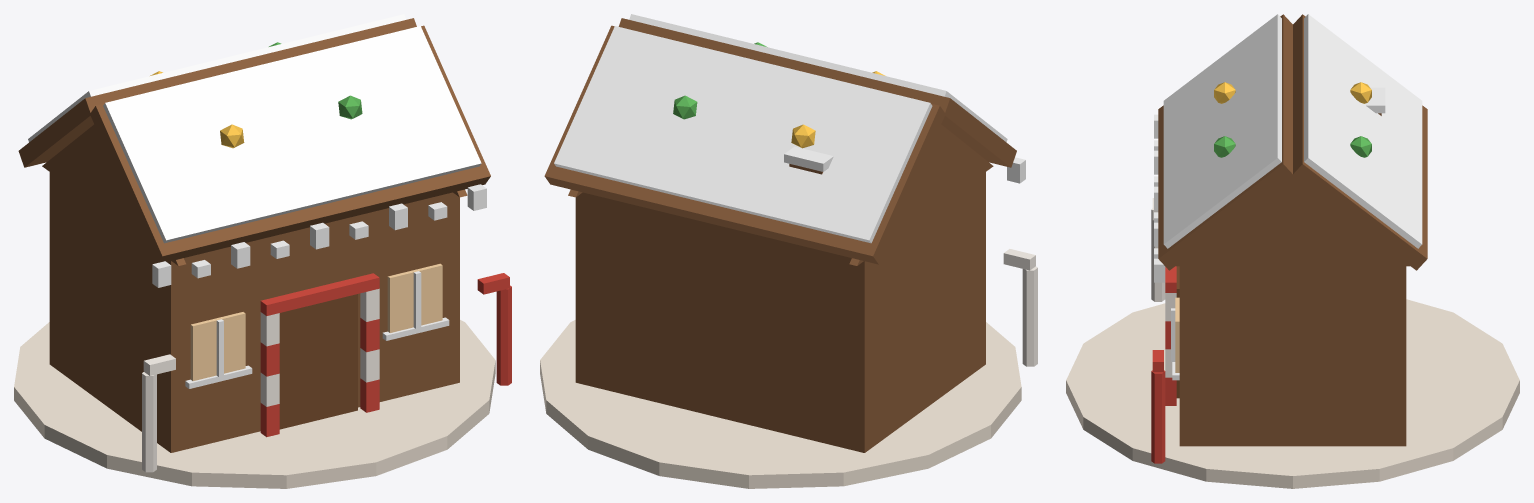
The model's file is CatCafe_Decor_GingerbreadHouse.glb.
3 renders of one model, left to right at view 1: azimuth 30°, elevation 25°; view 2: azimuth 150°, elevation 25°; view 3: azimuth 270°, elevation 25°, orthographic. The views are drawn at different scales.
Parts seen in each view (by area): view 1: CatCafe_Decor_GingerbreadHouse, CatCafe_Decor_GingerbreadHouse_Glow; view 2: CatCafe_Decor_GingerbreadHouse; view 3: CatCafe_Decor_GingerbreadHouse.
Boxes of the visible parts, bbox=[...] form: CatCafe_Decor_GingerbreadHouse: bbox=[14, 14, 511, 488]; CatCafe_Decor_GingerbreadHouse_Glow: bbox=[190, 263, 442, 380]; CatCafe_Decor_GingerbreadHouse: bbox=[540, 14, 1037, 488]; CatCafe_Decor_GingerbreadHouse: bbox=[1066, 14, 1519, 488].
Bounding box in the file's own units: 3.2 × 2.39 × 3.2.
1 material, 1 textured.
